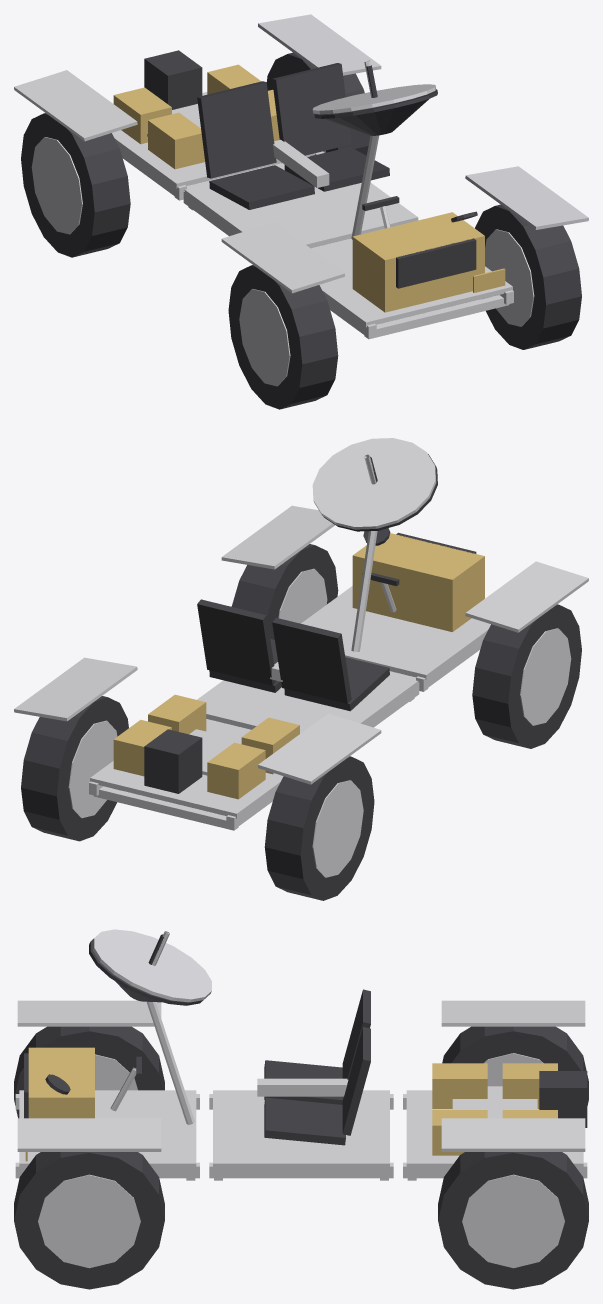
Rendered from lunar-rover.gltf.
The picture shows the model from 3 angles, top to bottom: view 1: azimuth 30°, elevation 25°; view 2: azimuth 150°, elevation 25°; view 3: azimuth 270°, elevation 25°; orthographic projection. The views are drawn at different scales.
Visible parts, largest first — view 1: dark, lunar-rover, gold; view 2: lunar-rover, dark, gold; view 3: lunar-rover, dark, gold.
Part boxes in pixels (<box>): dark: <box>21,50,581,409</box>; lunar-rover: <box>14,14,588,386</box>; gold: <box>113,64,505,312</box>; lunar-rover: <box>14,438,588,877</box>; dark: <box>21,454,581,900</box>; gold: <box>113,533,484,799</box>; lunar-rover: <box>15,929,587,1268</box>; dark: <box>14,934,588,1289</box>; gold: <box>25,1047,557,1161</box>.
Bounding box in the file's own units: 1.9 × 1.72 × 3.12.
